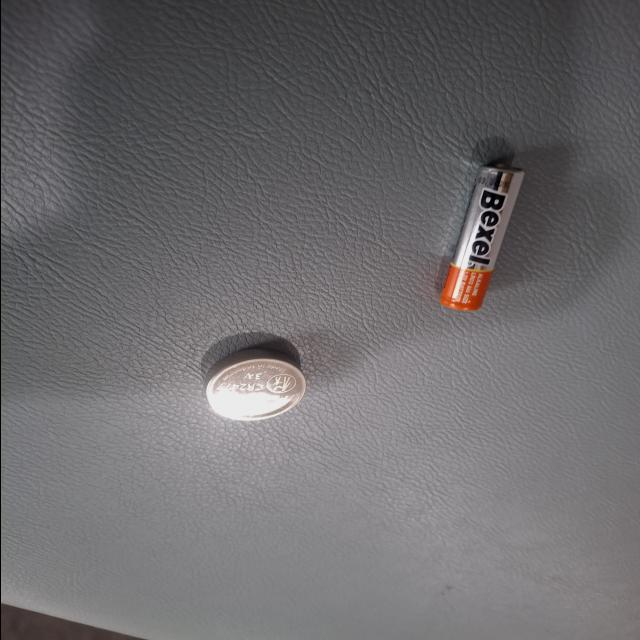AAA: (5, 86, 202, 152)
COIN: (252, 250, 350, 330)
